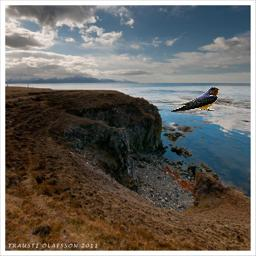Swallow: (159, 86, 219, 112)
